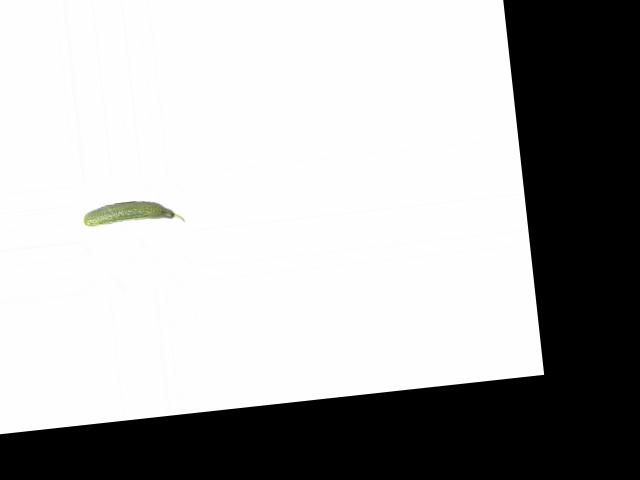cucumber: (82, 196, 185, 232)
